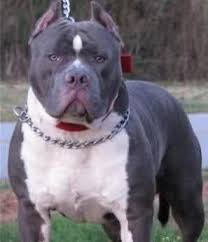Perro Pitbull: (9, 1, 175, 242)
